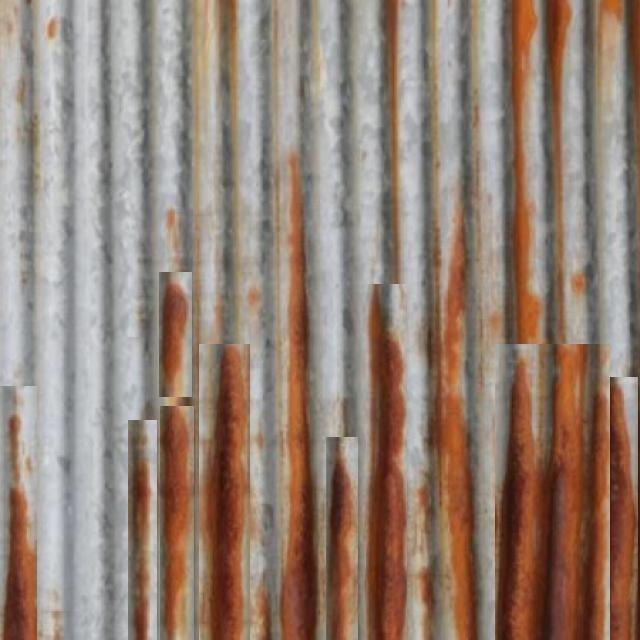Corrosion: (434, 216, 475, 640), (499, 345, 552, 640), (281, 200, 315, 640), (369, 309, 406, 640), (551, 345, 591, 640), (213, 369, 249, 640), (513, 0, 539, 340), (612, 378, 640, 640), (164, 407, 193, 640), (3, 486, 36, 640), (160, 284, 191, 396)
